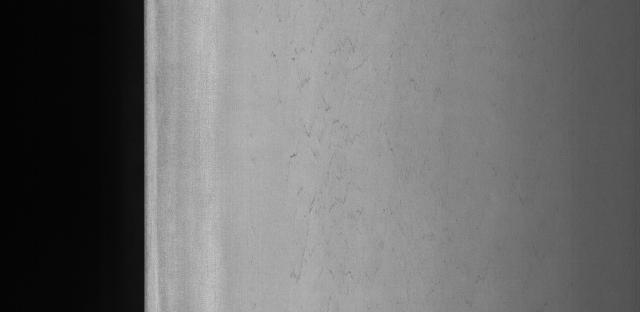silk_spot: (254, 17, 425, 262)
